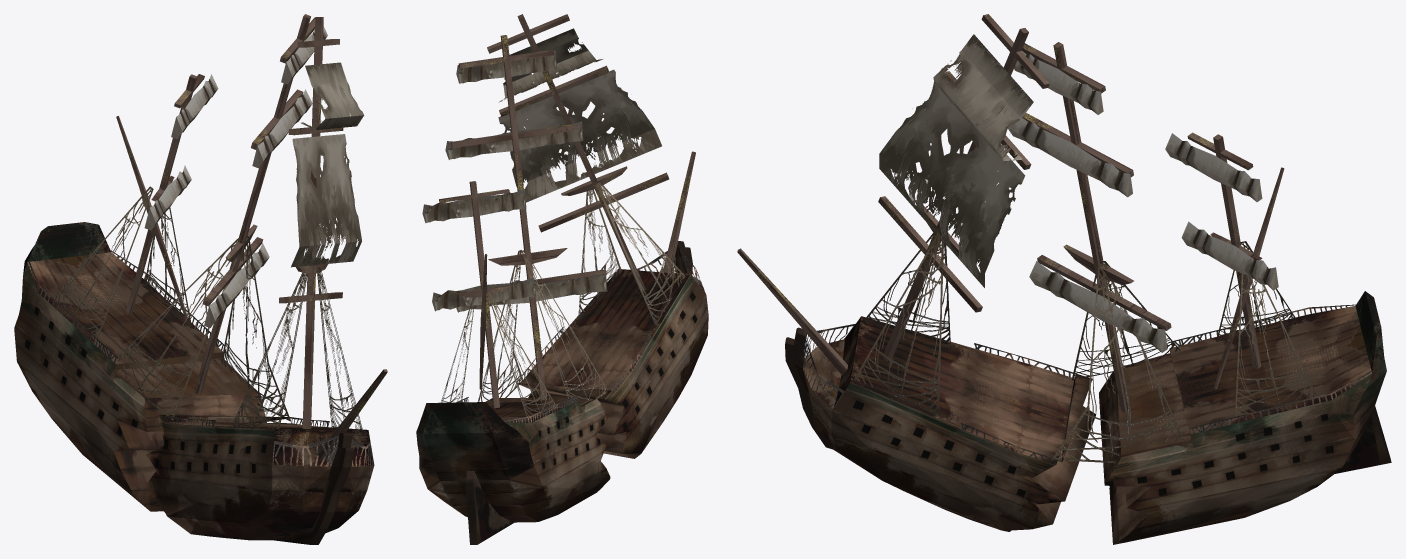
Rendered from Ship02.fbx.
The picture shows the model from 3 angles, left to right: view 1: azimuth 30°, elevation 25°; view 2: azimuth 150°, elevation 25°; view 3: azimuth 270°, elevation 25°; orthographic projection. The views are drawn at different scales.
Visible parts, largest first — view 1: Ship_rear02, Ship_front01; view 2: Ship_rear02, Ship_front01; view 3: Ship_rear02, Ship_front01.
Part boxes in pixels (bbox=[...]): Ship_rear02: bbox=[14, 14, 327, 511]; Ship_front01: bbox=[146, 17, 387, 544]; Ship_rear02: bbox=[416, 35, 610, 544]; Ship_front01: bbox=[487, 14, 708, 458]; Ship_rear02: bbox=[1007, 42, 1391, 544]; Ship_front01: bbox=[737, 14, 1096, 531].
Bounding box in the file's own units: 21.34 × 50.5 × 55.06.
Materials: 3 (3 with a texture image).
